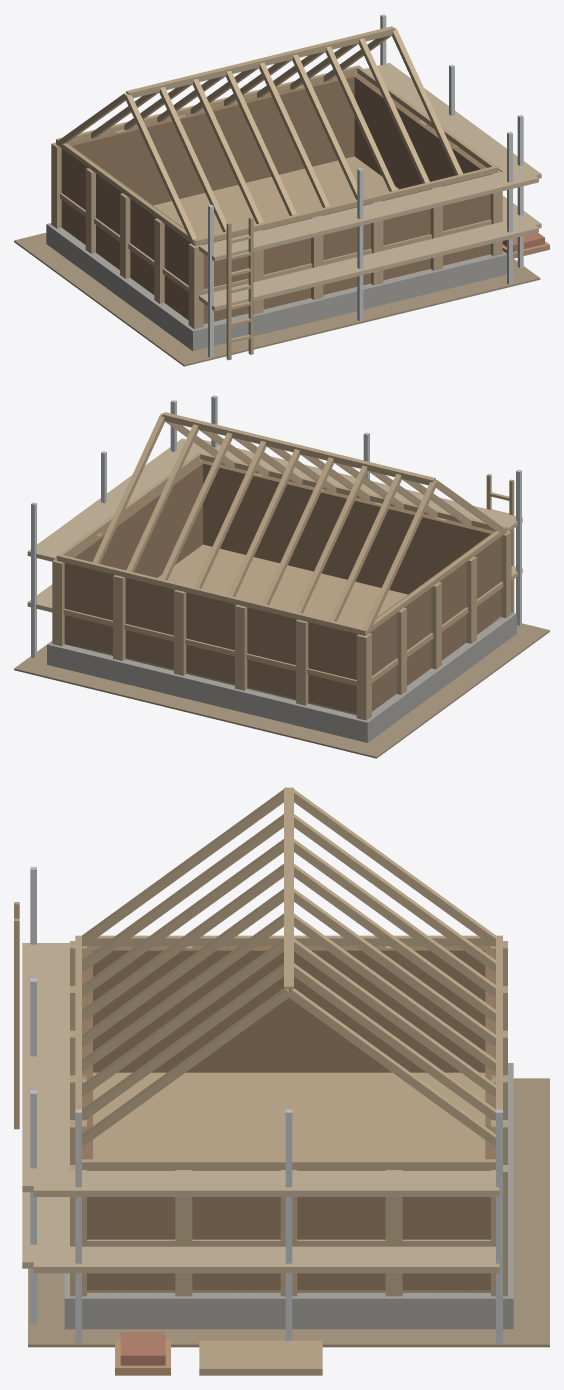
File: horse_stable_site_9.glb
3 renders of one model, top to bottom at view 1: azimuth 30°, elevation 25°; view 2: azimuth 150°, elevation 25°; view 3: azimuth 270°, elevation 25°, orthographic. The views are drawn at different scales.
Visible parts, largest first — view 1: body; view 2: body; view 3: body.
Boxes of the visible parts, x1,y1,x2,y2 form: body: (14, 14, 549, 366); body: (14, 395, 549, 758); body: (14, 787, 549, 1375).
Size of the model in its own units: 2.49 by 1.24 by 1.91.
